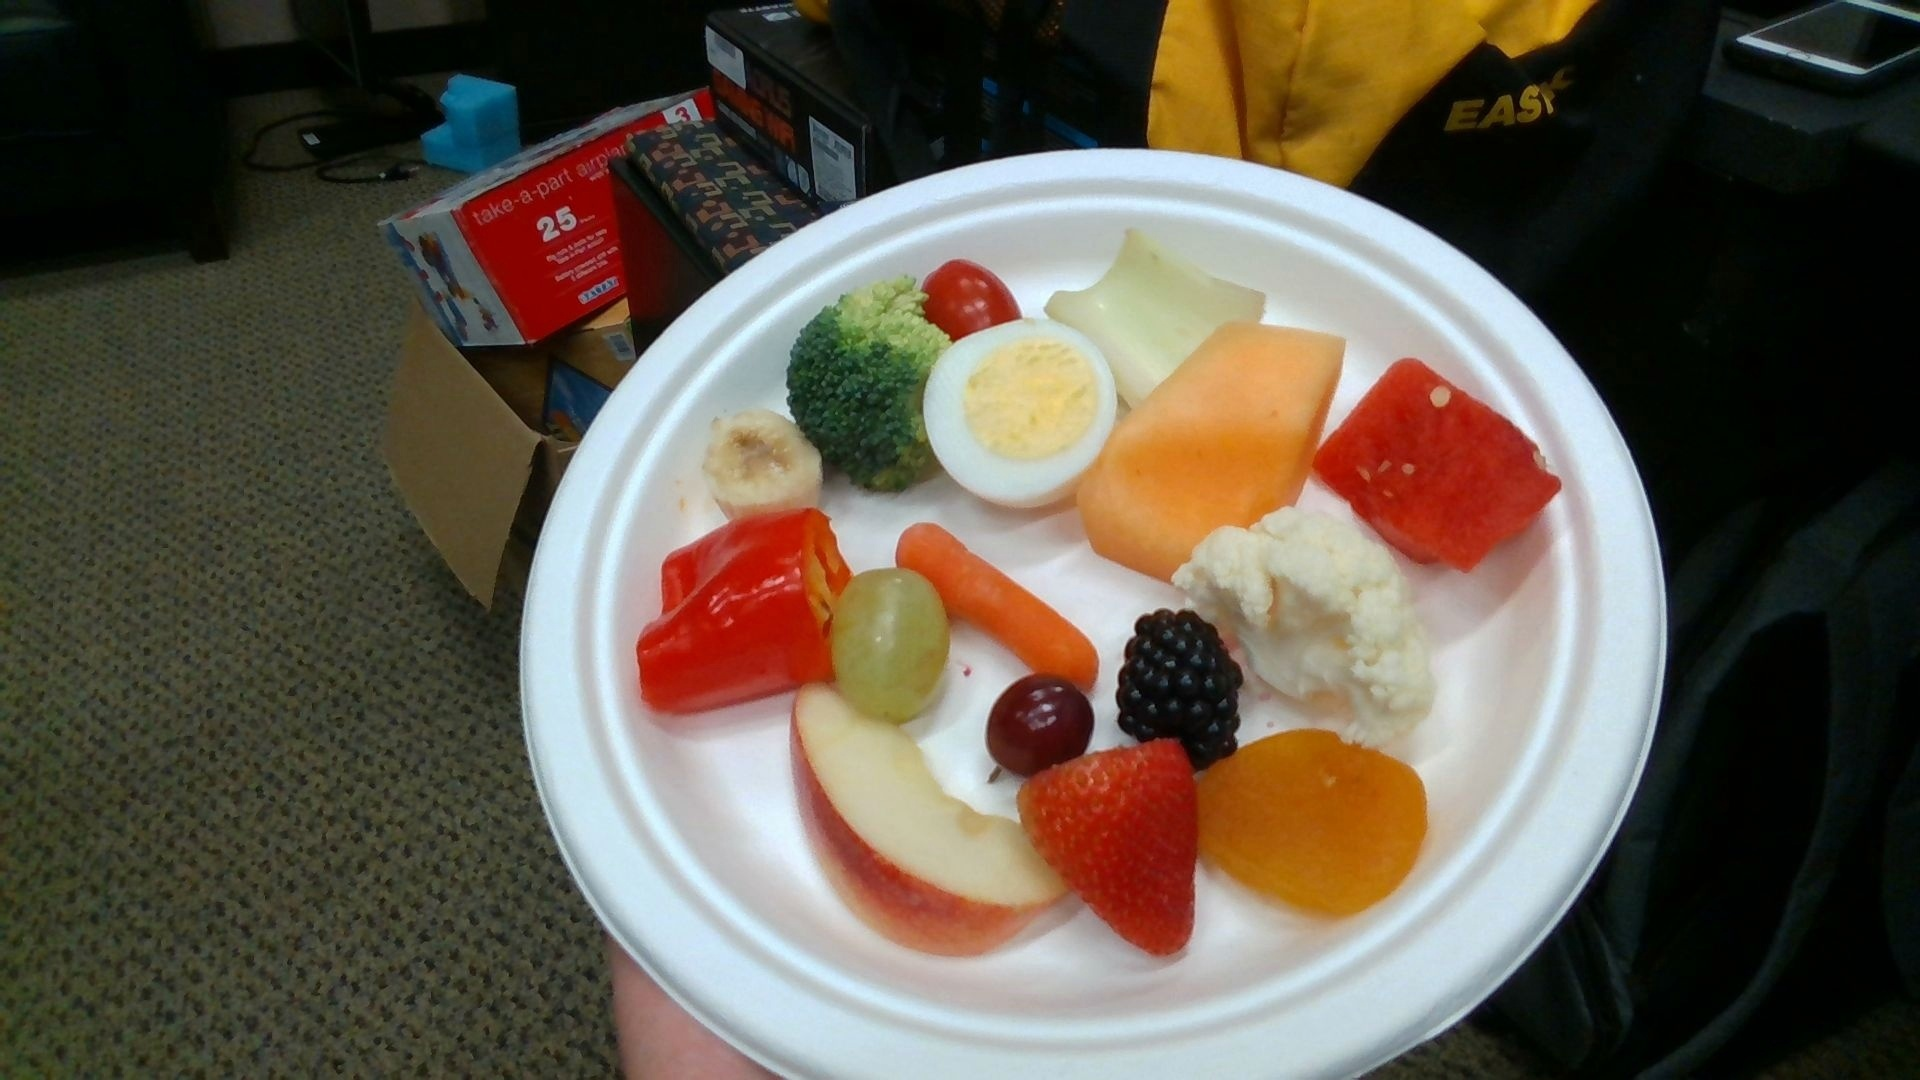apple: (794, 684, 1075, 951)
apricot: (1195, 731, 1427, 915)
banana: (704, 407, 824, 520)
bell_pepper: (640, 510, 855, 716)
blackberry: (1117, 611, 1242, 765)
broccoli: (787, 280, 955, 491)
cantalope: (1077, 326, 1345, 578)
carrot: (899, 524, 1098, 686)
cauliflower: (1174, 505, 1432, 725)
celery: (1044, 233, 1267, 407)
cherry_tomato: (924, 258, 1019, 338)
egg: (922, 318, 1116, 510)
grape_green: (833, 571, 949, 721)
grape_purple: (989, 675, 1095, 773)
melon: (1312, 361, 1560, 566)
strawberry: (1017, 742, 1195, 957)
